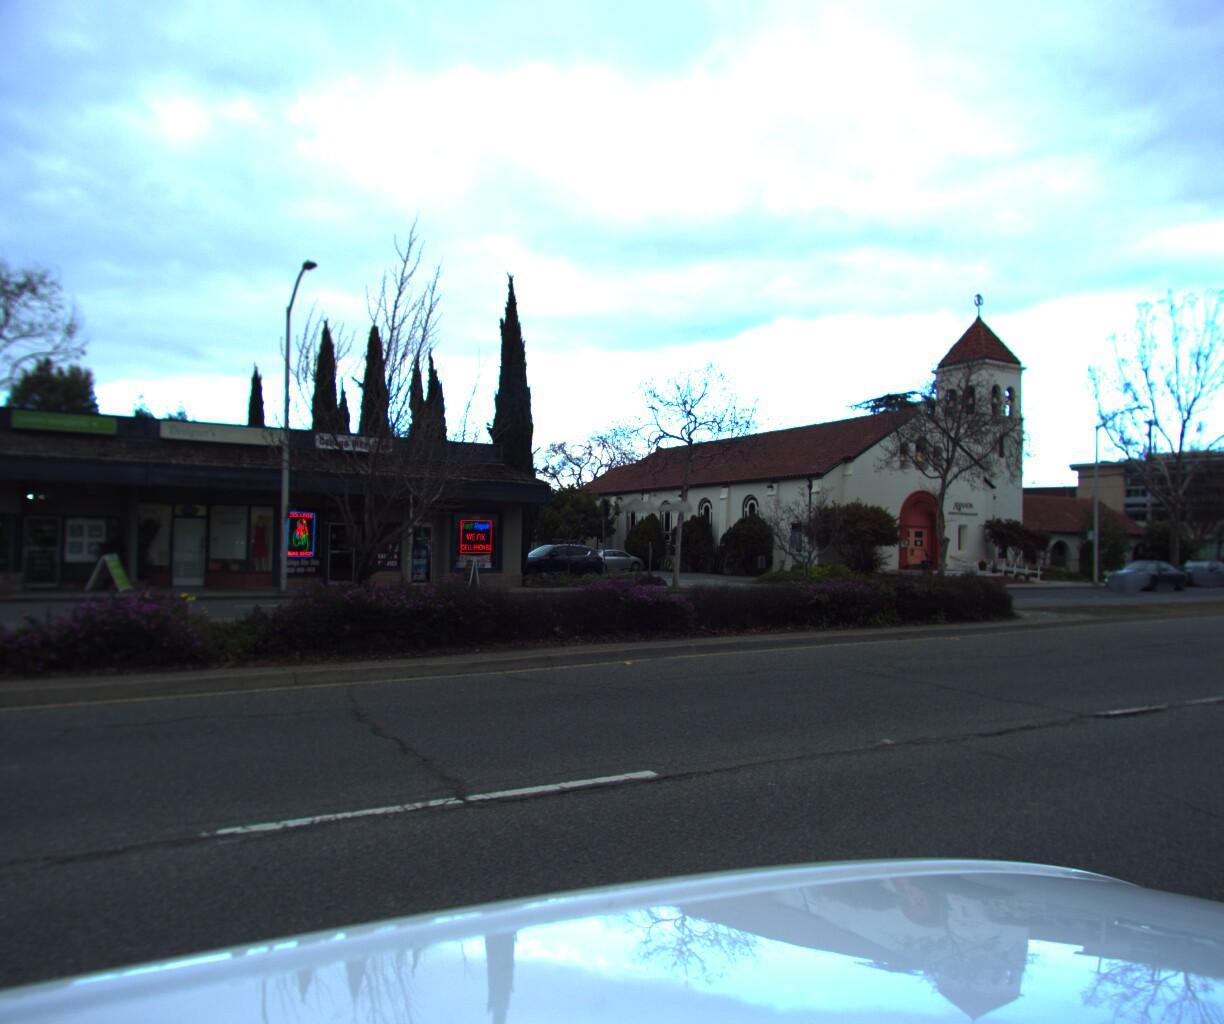car: (1095, 558, 1197, 603), (499, 534, 611, 574), (1157, 555, 1224, 587), (1211, 550, 1224, 583)
